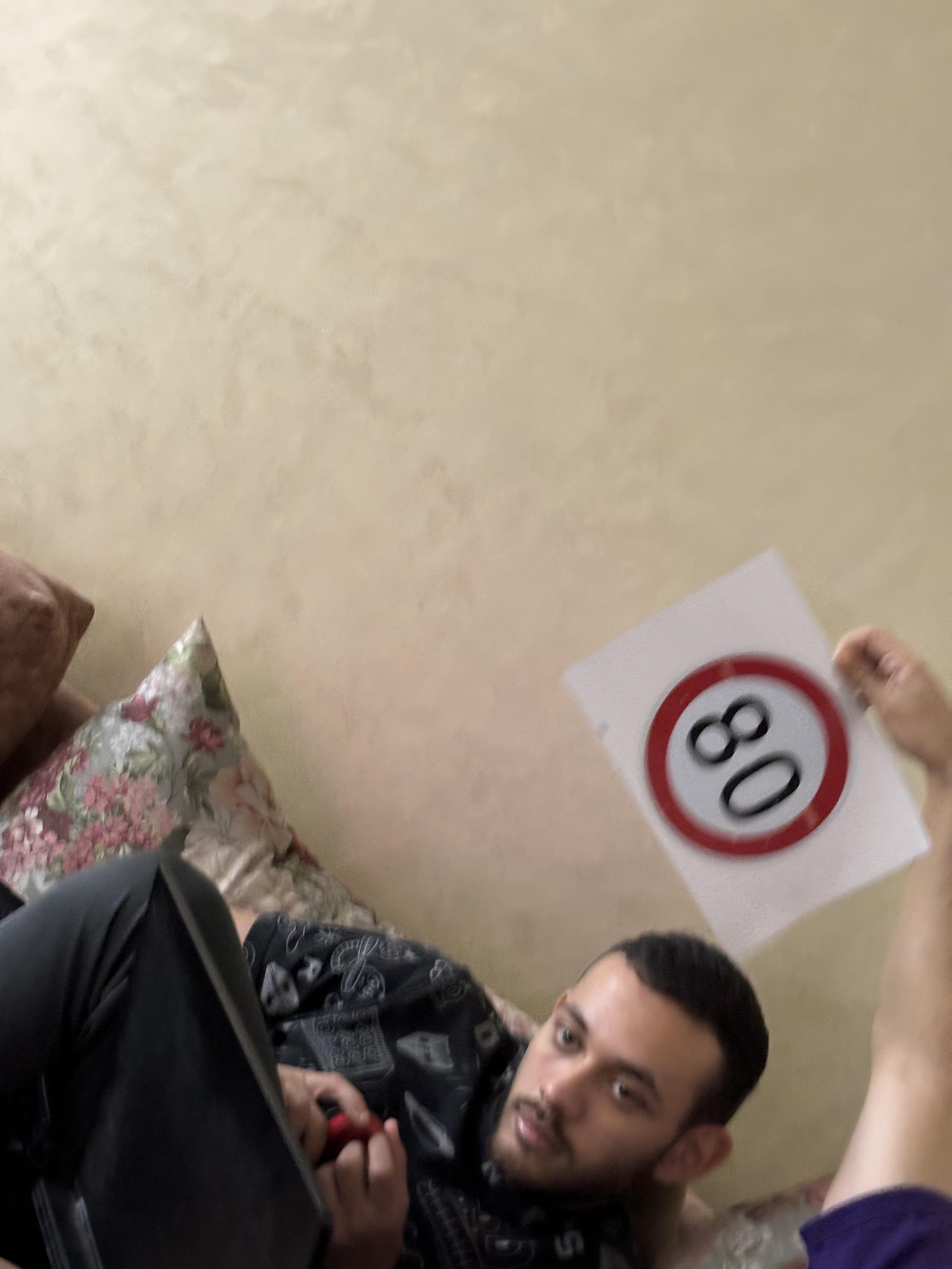80-Speed: (630, 646, 853, 865)
